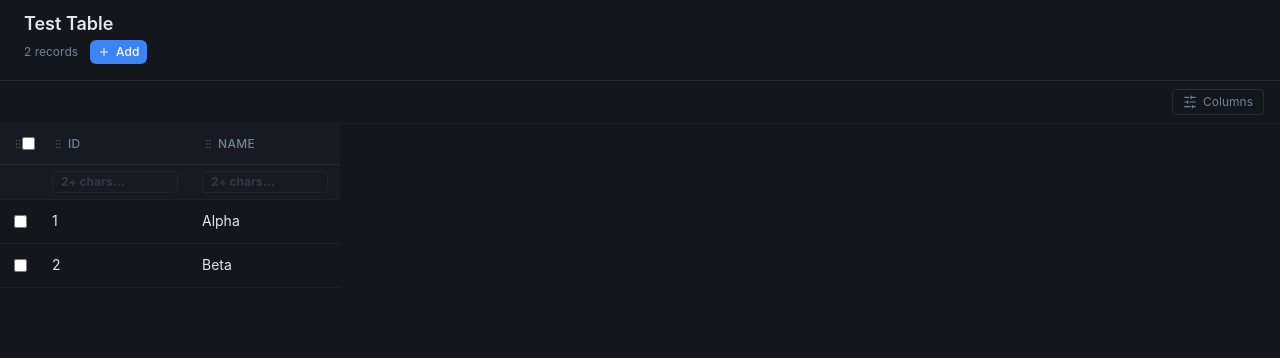
Test: TablePage bulk edit › hides bulk edit bar when selection is cleared
Expected: the text "2 records" is shown, [24,44,78,60]
Click the checkbox named "Select row 1". click: {"x": 20, "y": 221}
box: [14,214,26,228]
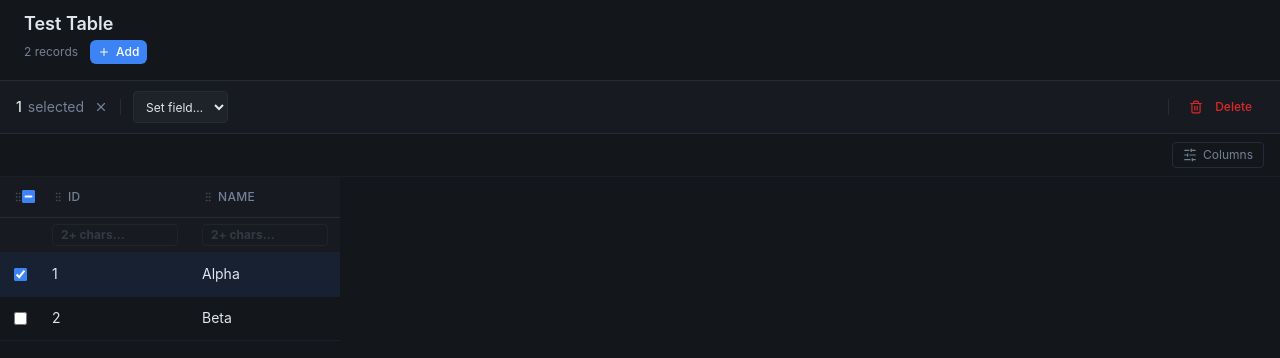
Expected: the element with test id "bulk-edit-bar" is shown, [0,81,1279,134]
Click the button named "Clear selection". click: {"x": 101, "y": 107}
box: [94,100,108,114]
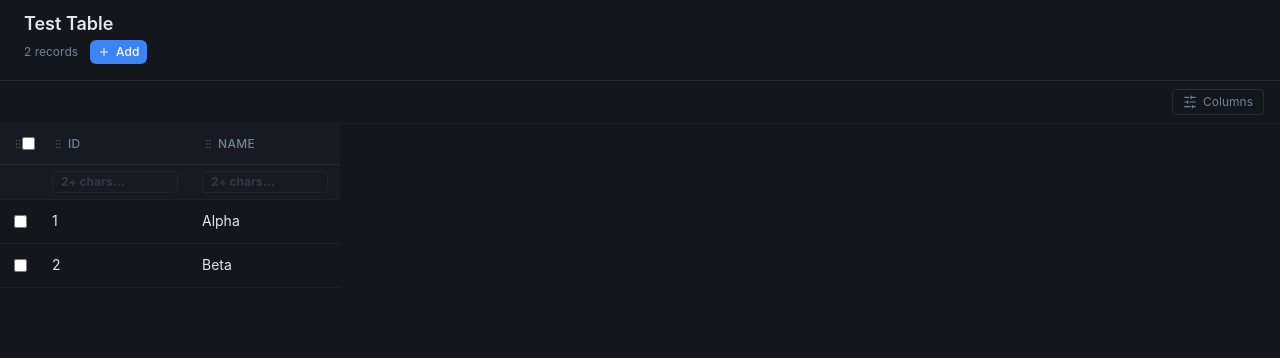
Expected: the element with test id "bulk-edit-bar" is gone
